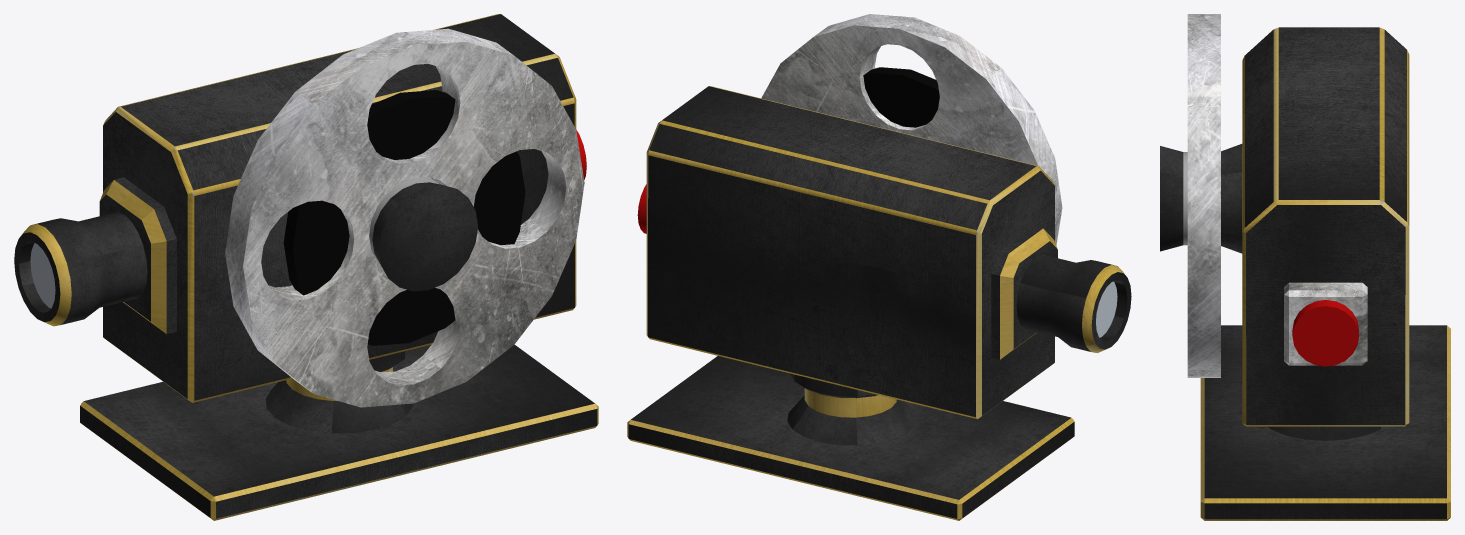
File: ProyectorModel.fbx
3 renders of one model, left to right at view 1: azimuth 30°, elevation 25°; view 2: azimuth 150°, elevation 25°; view 3: azimuth 270°, elevation 25°, orthographic. The views are drawn at different scales.
Visible parts, largest first — view 1: cintaDePelicula, cuerpoProyector, baseProyector, cuerpoLente, soportePelicula, cuelloPatas, Lente; view 2: cuerpoProyector, baseProyector, cintaDePelicula, cuerpoLente, cuelloPatas, Lente; view 3: cuerpoProyector, baseProyector, cintaDePelicula, soportePelicula, botonPulsable, cuerpoBoton2, cuelloPatas.
Boxes of the visible parts, x1=… form: cintaDePelicula: x1=225, y1=28, x2=584, y2=407; cuerpoProyector: x1=99, y1=14, x2=576, y2=402; baseProyector: x1=80, y1=344, x2=598, y2=520; cuerpoLente: x1=14, y1=212, x2=147, y2=326; soportePelicula: x1=369, y1=177, x2=477, y2=291; cuelloPatas: x1=265, y1=350, x2=413, y2=433; Lente: x1=30, y1=243, x2=55, y2=308; cuerpoProyector: x1=646, y1=86, x2=1057, y2=419; baseProyector: x1=627, y1=356, x2=1074, y2=520; cintaDePelicula: x1=761, y1=14, x2=1062, y2=245; cuerpoLente: x1=1016, y1=254, x2=1131, y2=353; cuelloPatas: x1=787, y1=373, x2=914, y2=445; Lente: x1=1096, y1=281, x2=1117, y2=337; cuerpoProyector: x1=1242, y1=27, x2=1409, y2=426; baseProyector: x1=1200, y1=325, x2=1450, y2=520; cintaDePelicula: x1=1187, y1=14, x2=1220, y2=377; soportePelicula: x1=1160, y1=144, x2=1242, y2=253; botonPulsable: x1=1292, y1=300, x2=1358, y2=366; cuerpoBoton2: x1=1284, y1=282, x2=1367, y2=365; cuelloPatas: x1=1267, y1=426, x2=1383, y2=440.
Size of the model in its own units: 68.47 by 53.56 by 34.87.
Materials: 7 (3 with a texture image).
